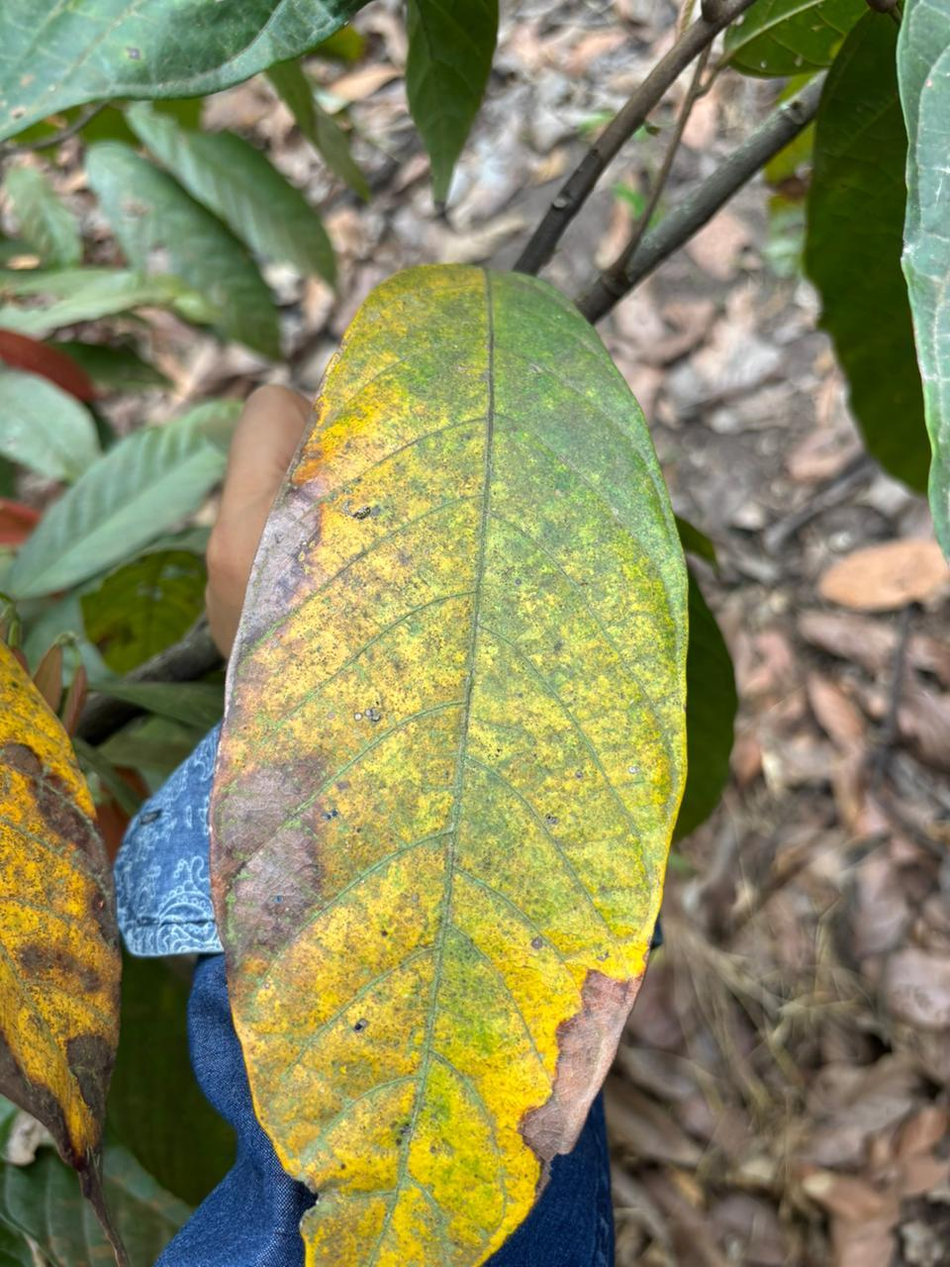deficienciia_fosforo: (210, 265, 687, 1266)
